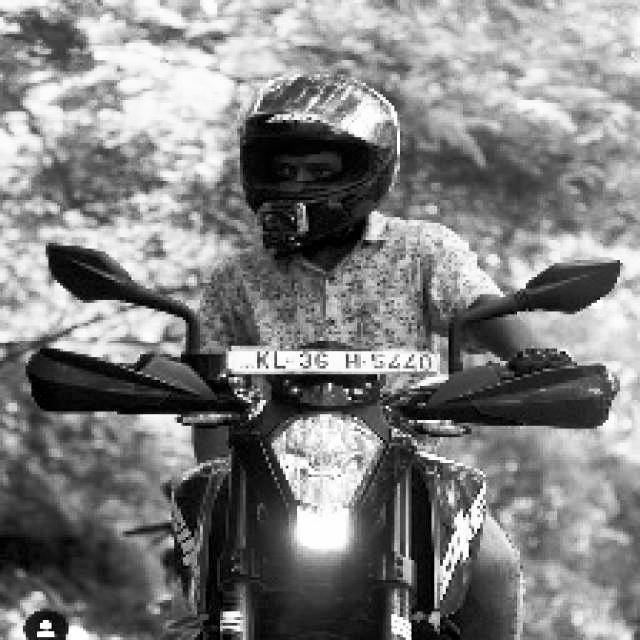Bike: (93, 343, 617, 637)
